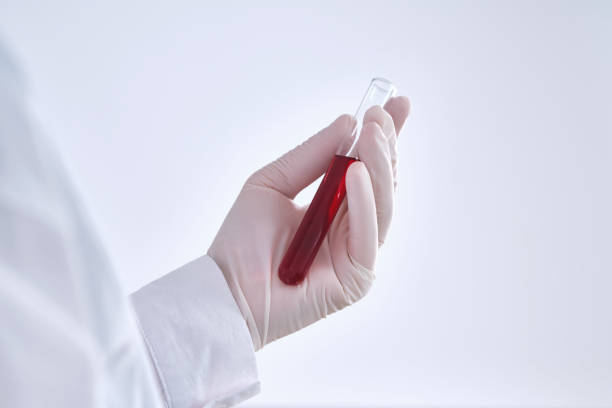blood: (275, 153, 363, 288)
